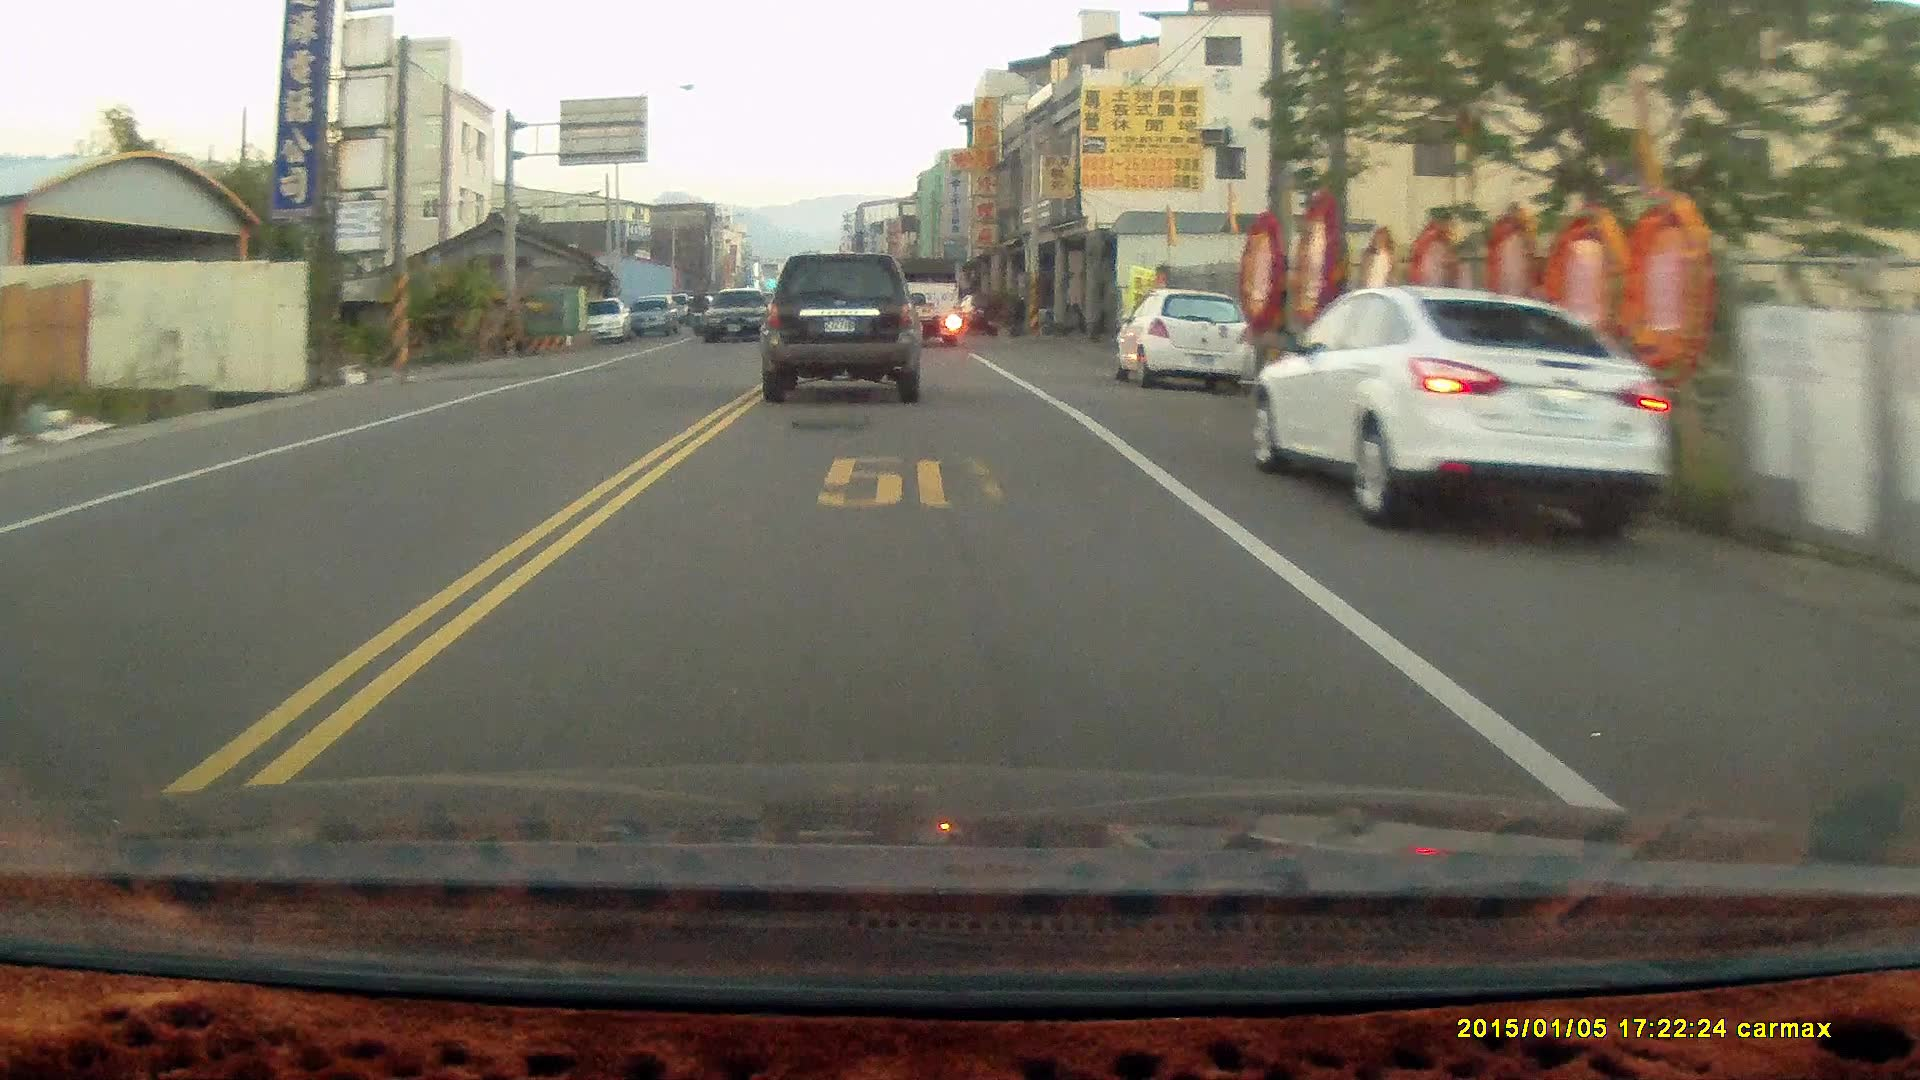vehicle: (1254, 284, 1673, 531), (758, 252, 923, 402), (1113, 287, 1261, 398), (887, 258, 964, 353), (703, 287, 774, 343)
